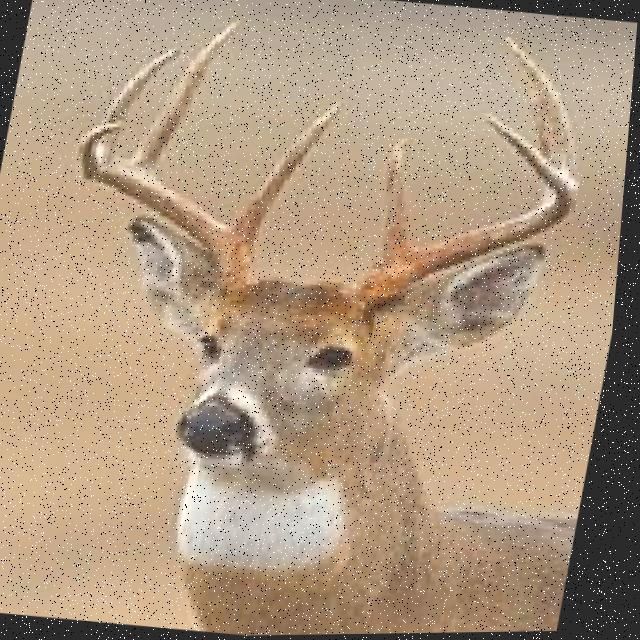L-F: (360, 115, 581, 316)
L-G1: (381, 139, 413, 263)
R-F: (77, 120, 259, 291)
R-G1: (233, 102, 345, 248)
R-G2: (131, 18, 241, 172)
